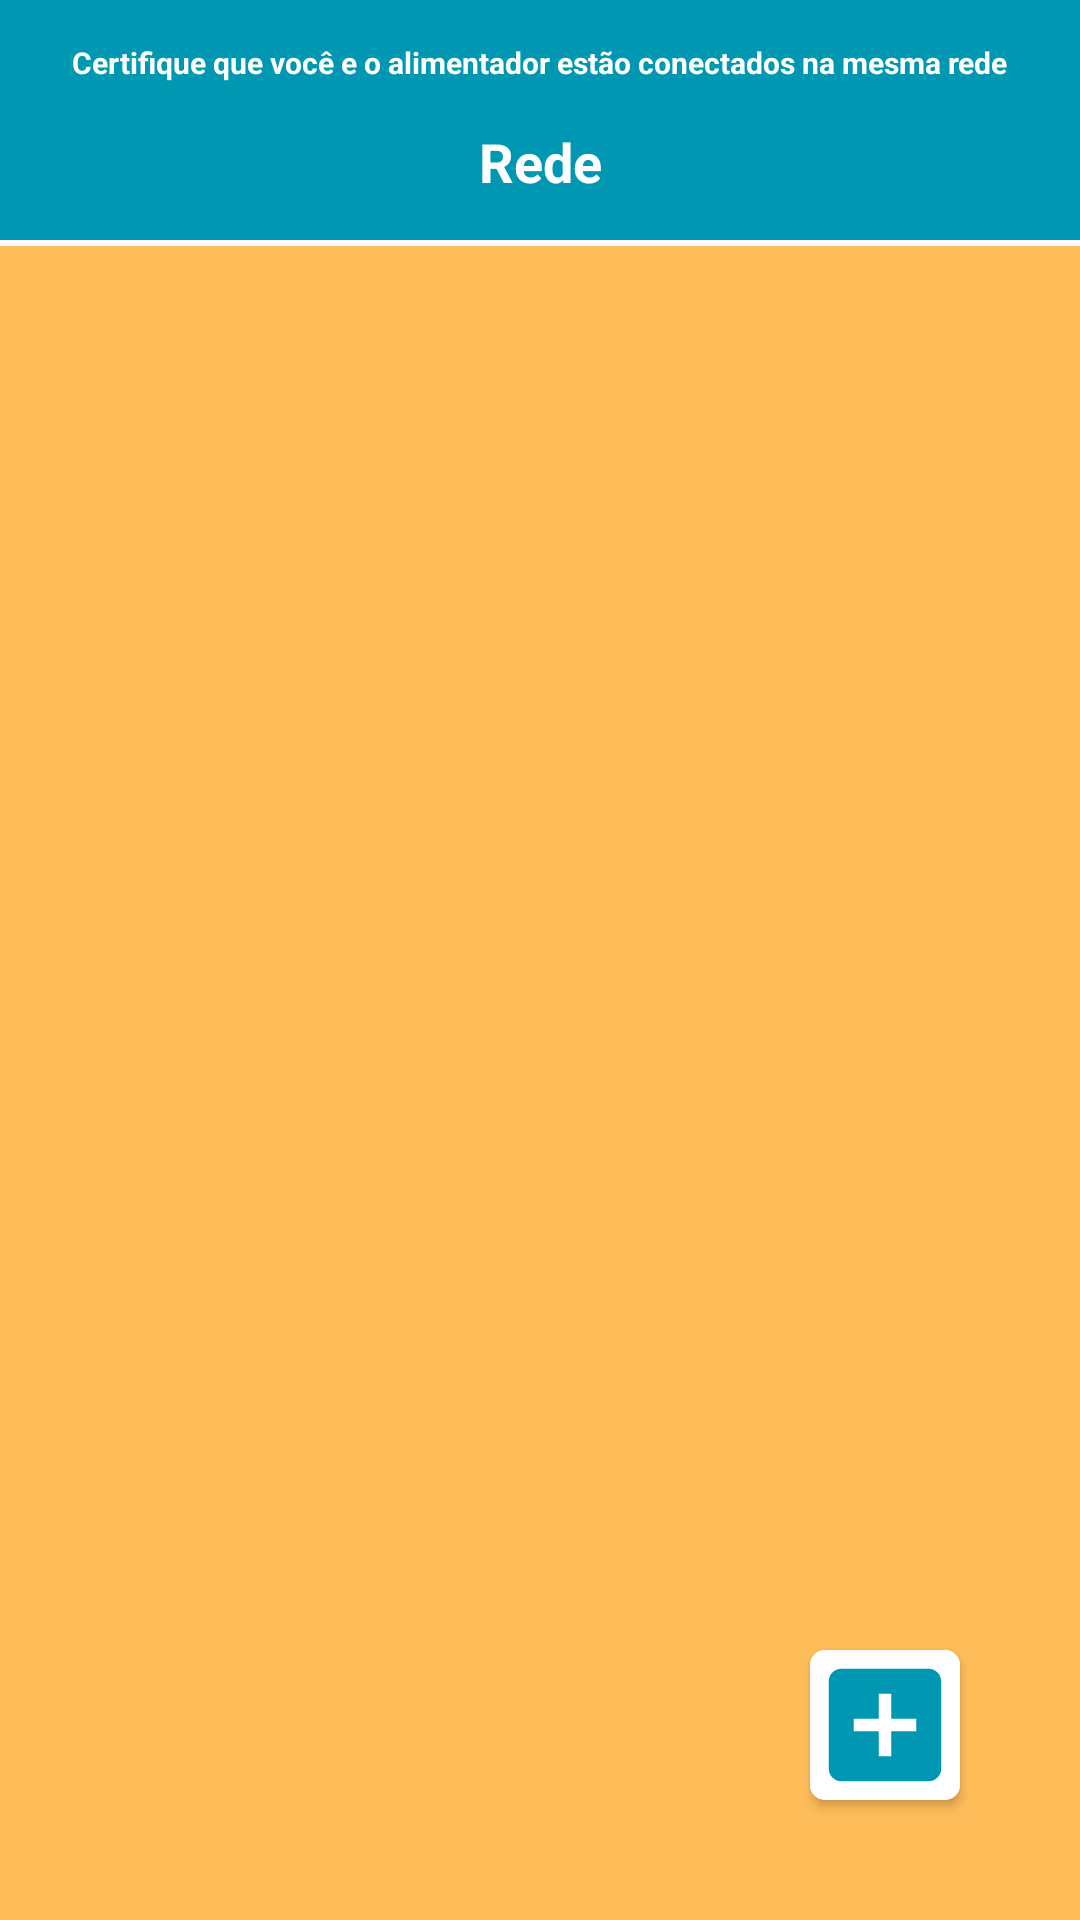

Locate icon controls on the screen. Image size 1080*1920, boxes as detection(x1, y1, x2, y2).
adicionar: detection(810, 1650, 960, 1800)
